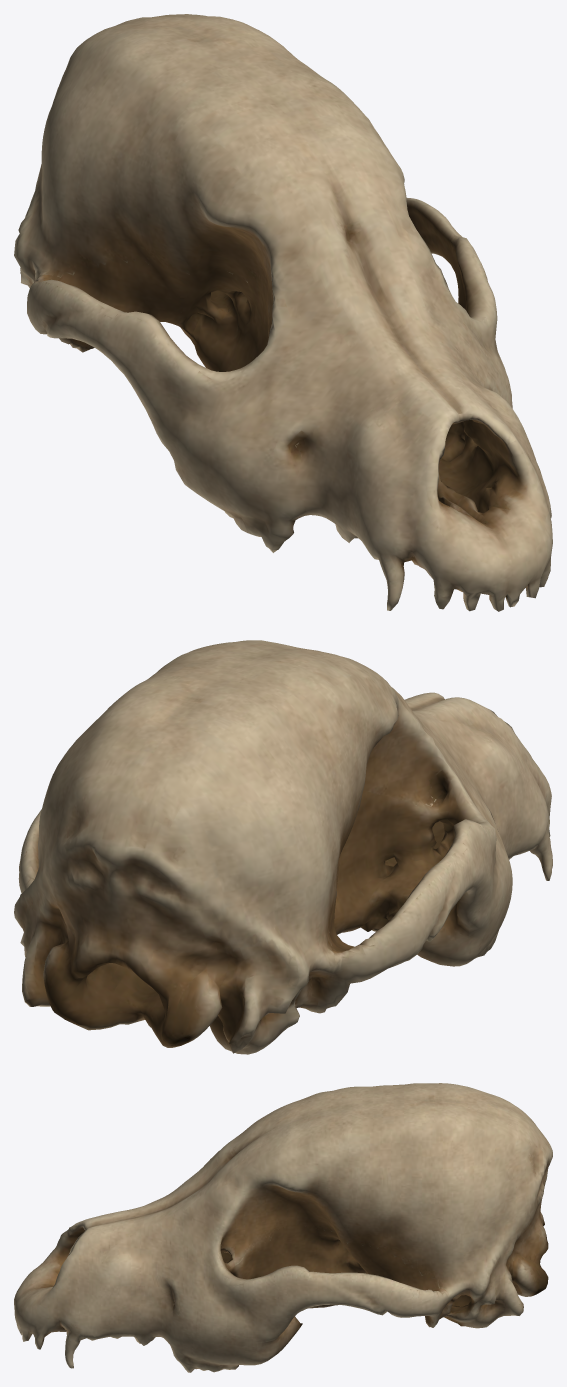
File: Skull.glb
3 renders of one model, top to bottom at view 1: azimuth 30°, elevation 25°; view 2: azimuth 150°, elevation 25°; view 3: azimuth 270°, elevation 25°, orthographic. The views are drawn at different scales.
Parts seen in each view (by area): view 1: Skull1:Group10625; view 2: Skull1:Group10625; view 3: Skull1:Group10625.
Part boxes in pixels (x1,y1,x2,y2): Skull1:Group10625: (14,14,552,611); Skull1:Group10625: (14,640,552,1054); Skull1:Group10625: (14,1083,552,1372).
Bounding box in the file's own units: 88.82 × 78.86 × 158.
1 material, 1 textured.
